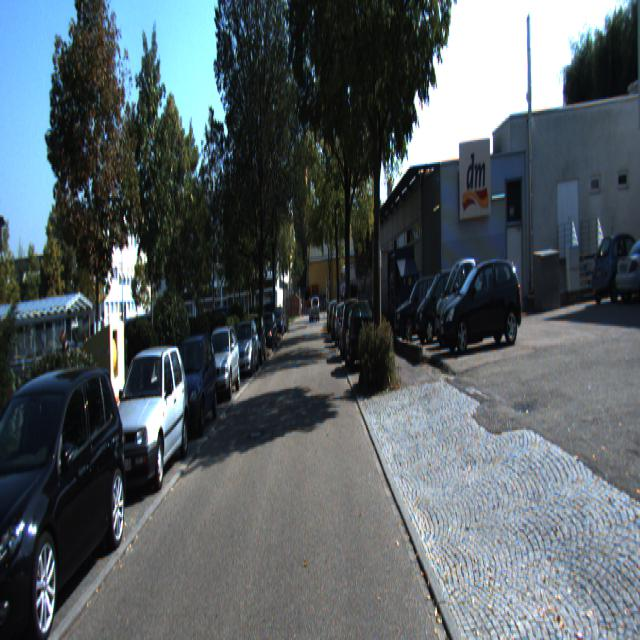Car: (0, 356, 134, 639), (101, 339, 193, 499), (438, 251, 524, 357), (165, 331, 219, 444), (433, 252, 489, 350), (413, 258, 473, 346), (393, 270, 449, 344), (590, 223, 640, 296), (201, 324, 241, 404), (612, 216, 640, 294), (345, 298, 374, 373), (231, 316, 260, 377), (340, 298, 363, 362)
